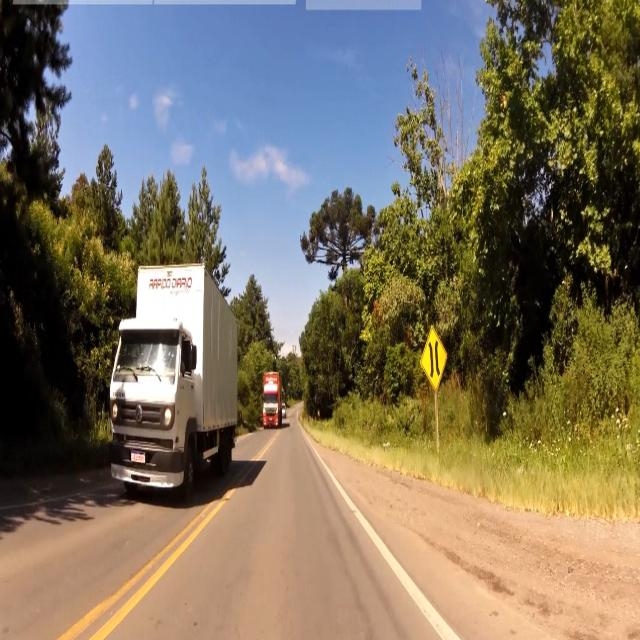A-22: (416, 327, 450, 396)
